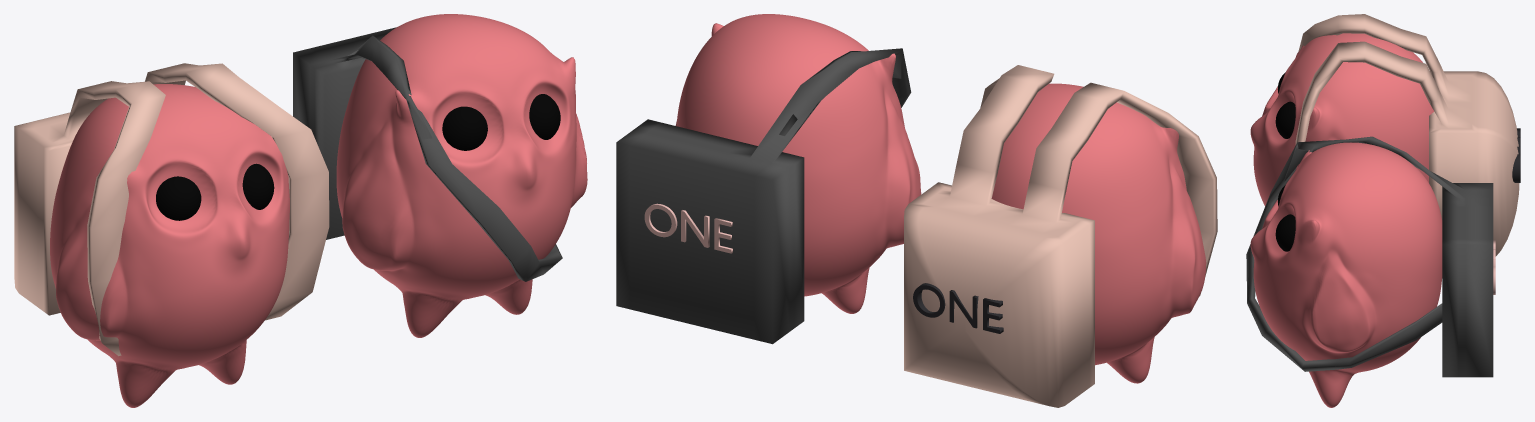
Rendered from owlKid.glb.
3 views of the same model, side by side, from view 1: azimuth 30°, elevation 25°; view 2: azimuth 150°, elevation 25°; view 3: azimuth 270°, elevation 25° (orthographic). The views are drawn at different scales.
Visible parts, largest first — view 1: Quad Sphere.001, Quad Sphere, Cube, Cube.001, Sphere.002, Sphere, Sphere.003, Sphere.001; view 2: Cube, Cube.001, Quad Sphere.001, Quad Sphere, hello, hello.001; view 3: Quad Sphere.001, Cube, Cube.001, Quad Sphere, Sphere.003, Sphere.001, hello.
Boxes of the visible parts, <box> form: Quad Sphere.001: <box>336,14,587,337</box>; Quad Sphere: <box>50,84,289,407</box>; Cube: <box>14,63,329,356</box>; Cube.001: <box>293,27,562,281</box>; Sphere.002: <box>442,106,487,150</box>; Sphere: <box>156,176,201,220</box>; Sphere.003: <box>529,94,560,139</box>; Sphere.001: <box>242,163,274,209</box>; Cube: <box>904,65,1217,407</box>; Cube.001: <box>616,48,911,344</box>; Quad Sphere.001: <box>675,14,921,313</box>; Quad Sphere: <box>991,83,1206,383</box>; hello: <box>913,283,1003,333</box>; hello.001: <box>644,203,732,253</box>; Quad Sphere.001: <box>1250,142,1442,407</box>; Cube: <box>1295,14,1519,256</box>; Cube.001: <box>1246,136,1493,377</box>; Quad Sphere: <box>1250,33,1433,206</box>; Sphere.003: <box>1275,214,1295,251</box>; Sphere.001: <box>1275,101,1295,138</box>; hello: <box>1512,128,1520,182</box>.
Bounding box in the file's own units: 6.59 × 3.67 × 3.75.
